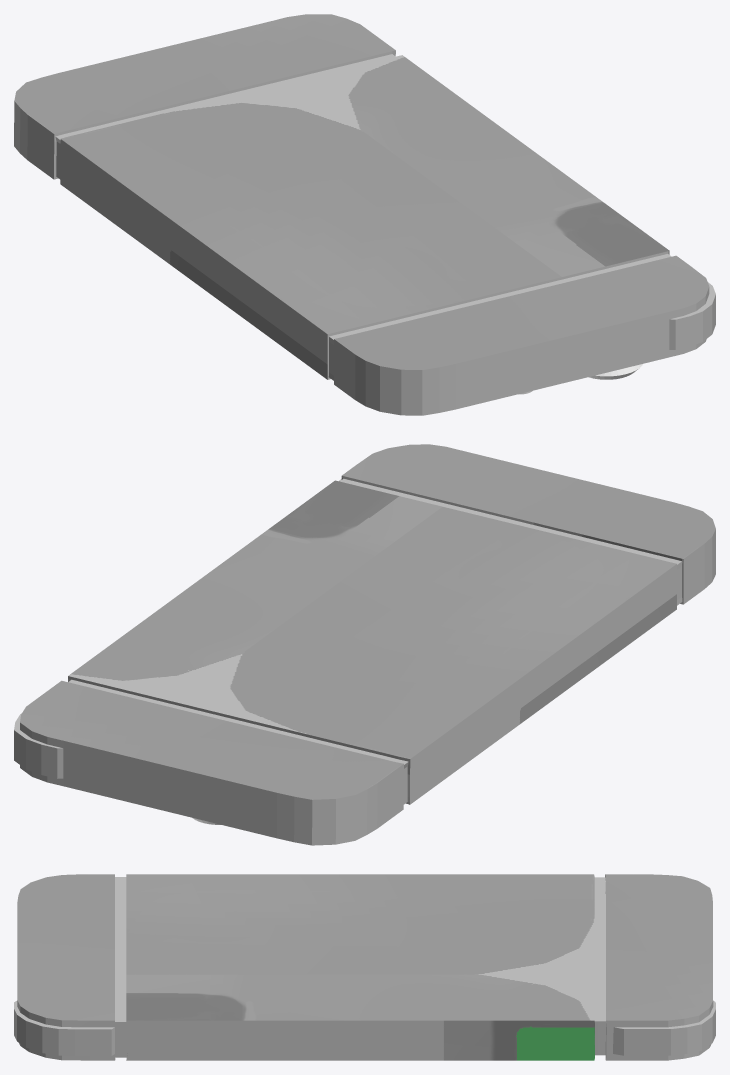
File: switch.fbx
The picture shows the model from 3 angles, top to bottom: view 1: azimuth 30°, elevation 25°; view 2: azimuth 150°, elevation 25°; view 3: azimuth 270°, elevation 25°; orthographic projection. The views are drawn at different scales.
Visible parts, largest first — view 1: Cube; view 2: Cube; view 3: Cube.
Boxes of the visible parts, x1,y1,x2,y2 form: Cube: [14, 14, 715, 415]; Cube: [14, 444, 715, 845]; Cube: [14, 874, 715, 1060].
Size of the model in its own units: 955 by 179 by 1911.
